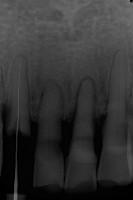Dental Caries: (62, 75, 98, 124)
